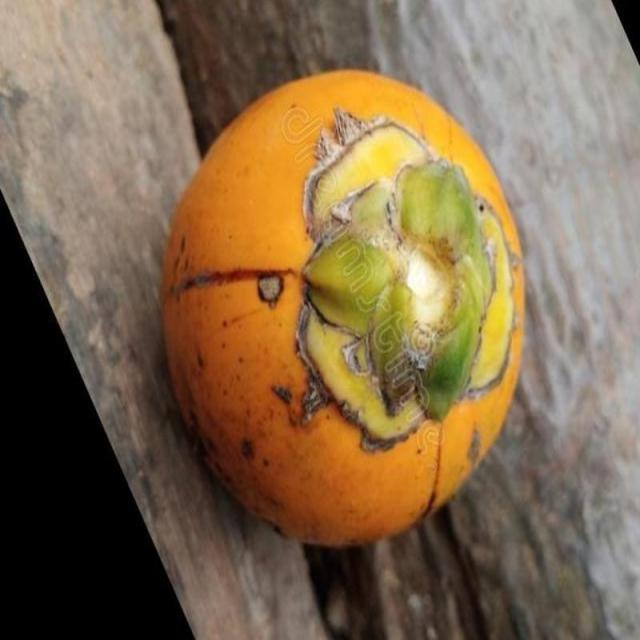good: (160, 69, 529, 551)
